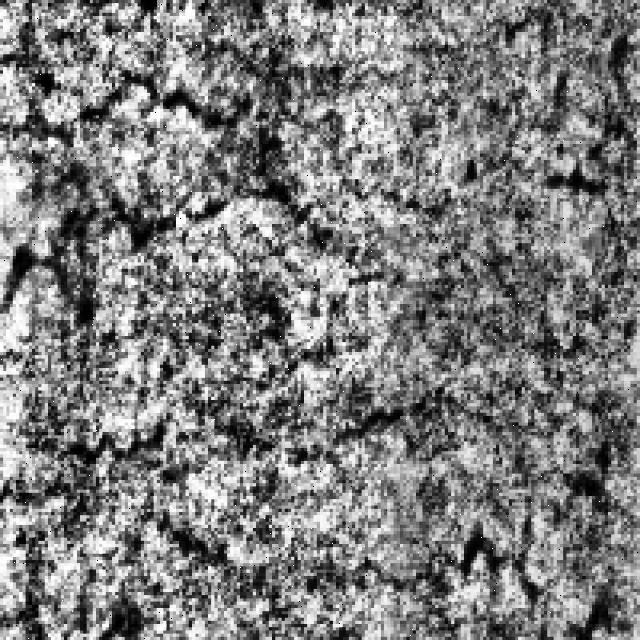Pitted_Surface: (0, 74, 403, 320), (48, 381, 602, 496), (358, 484, 564, 598)
